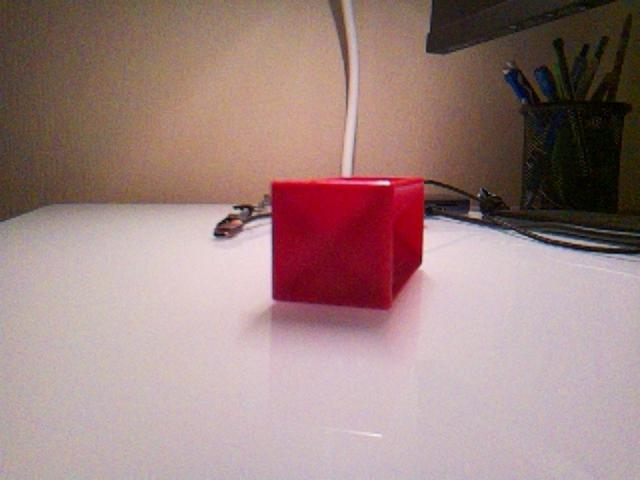red: (270, 175, 426, 311)
